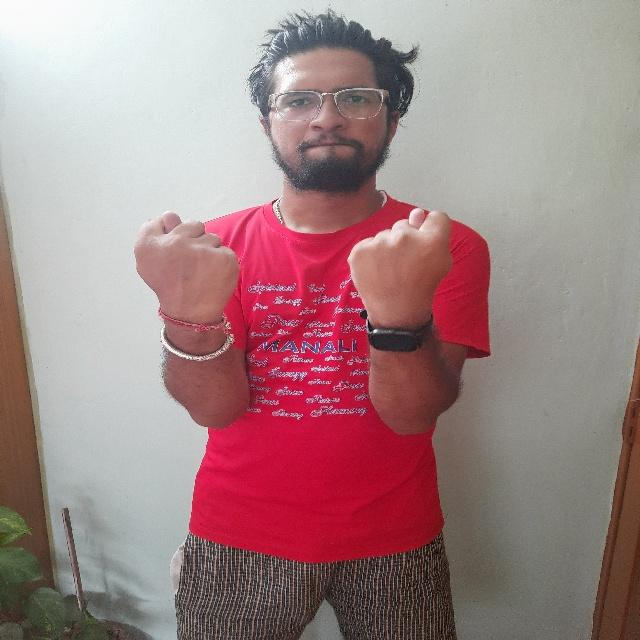Dulya: (338, 196, 468, 341), (131, 202, 251, 347)
